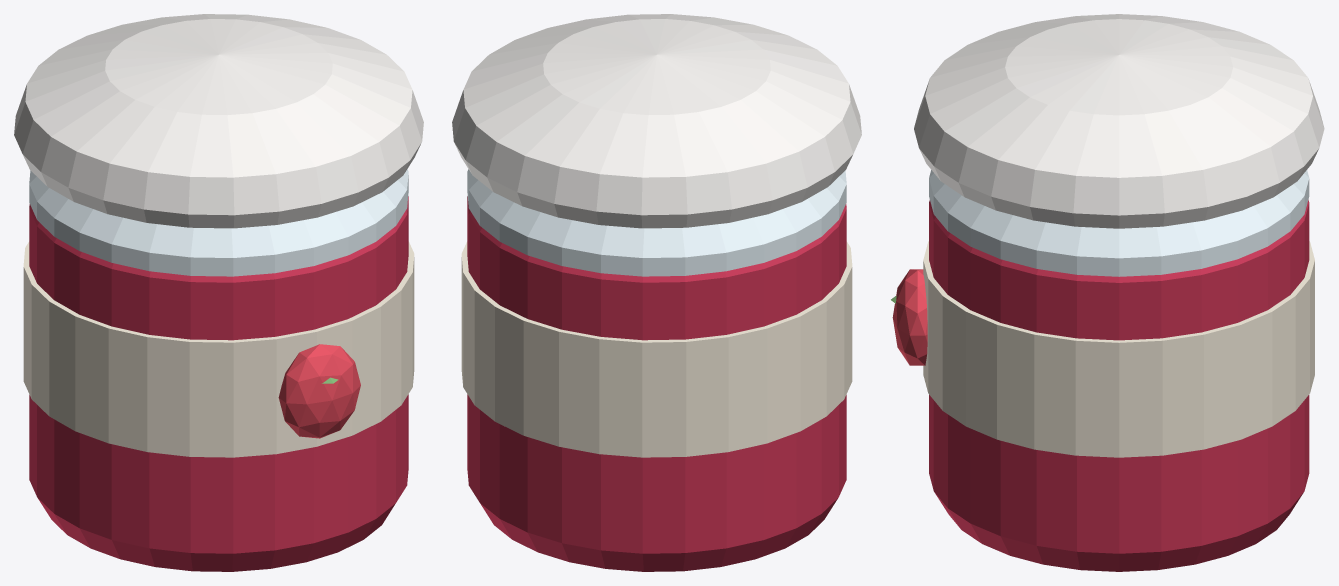
File: ITEM_StrawberryJam.fbx
3 views of the same model, side by side, from view 1: azimuth 30°, elevation 25°; view 2: azimuth 150°, elevation 25°; view 3: azimuth 270°, elevation 25° (orthographic).
Parts seen in each view (by area): view 1: ITEM_StrawberryJam; view 2: ITEM_StrawberryJam; view 3: ITEM_StrawberryJam.
Boxes of the visible parts, <box> form: ITEM_StrawberryJam: <box>14,14,423,571</box>; ITEM_StrawberryJam: <box>452,14,861,571</box>; ITEM_StrawberryJam: <box>891,14,1324,571</box>.
Size of the model in its own units: 45.36 by 54 by 47.94.
